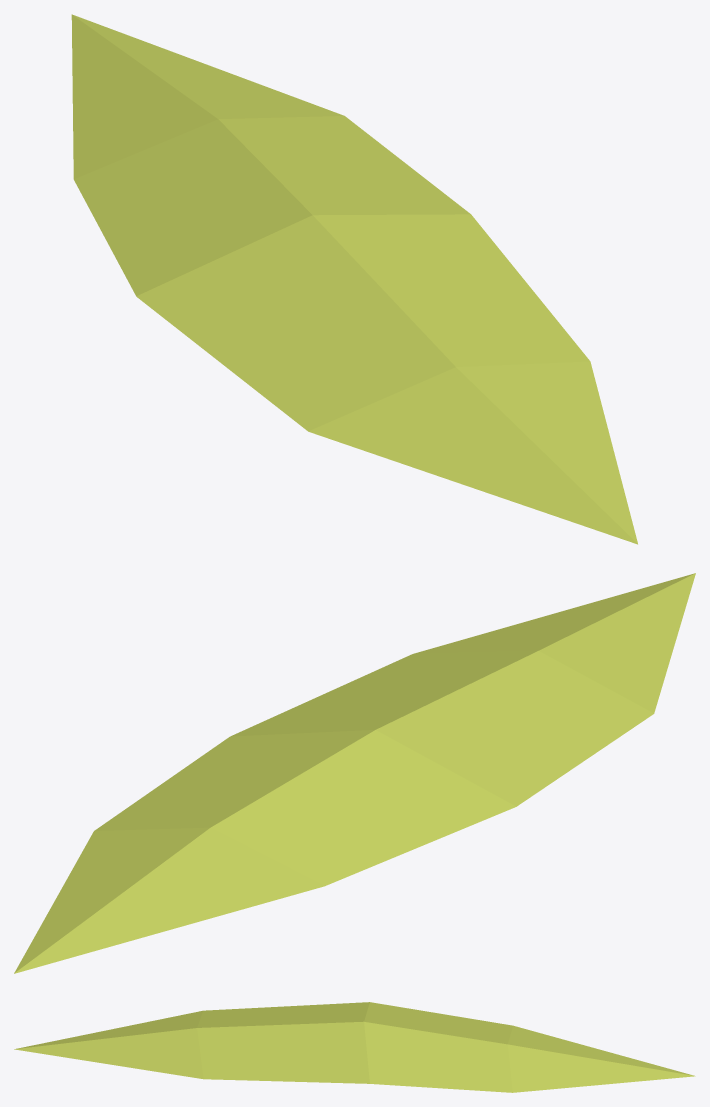
Rendered from Palm_Leave_TwoSided_05.fbx.
The picture shows the model from 3 angles, top to bottom: view 1: azimuth 30°, elevation 25°; view 2: azimuth 150°, elevation 25°; view 3: azimuth 270°, elevation 25°; orthographic projection. The views are drawn at different scales.
Parts seen in each view (by area): view 1: Palm_Leave_TwoSided_05; view 2: Palm_Leave_TwoSided_05; view 3: Palm_Leave_TwoSided_05.
Part boxes in pixels (x1,y1,x2,y2): Palm_Leave_TwoSided_05: (71,14,637,544); Palm_Leave_TwoSided_05: (14,573,695,973); Palm_Leave_TwoSided_05: (14,1002,695,1092).
Bounding box in the file's own units: 104 × 18.95 × 348.
